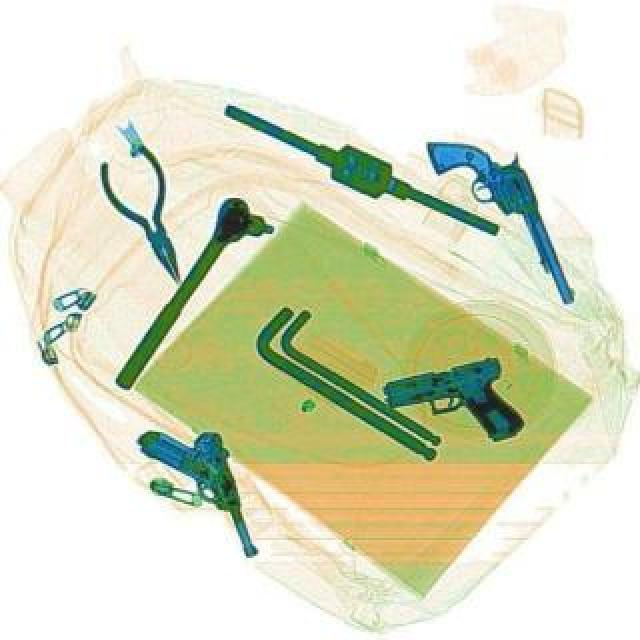gun: (422, 114, 580, 326), (132, 410, 264, 578), (376, 350, 526, 462)
wrench: (88, 142, 208, 296)
